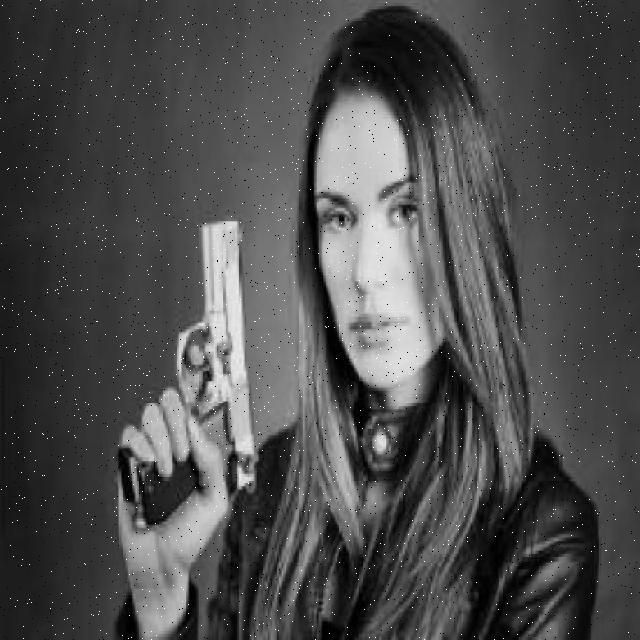gun: (106, 205, 270, 541)
